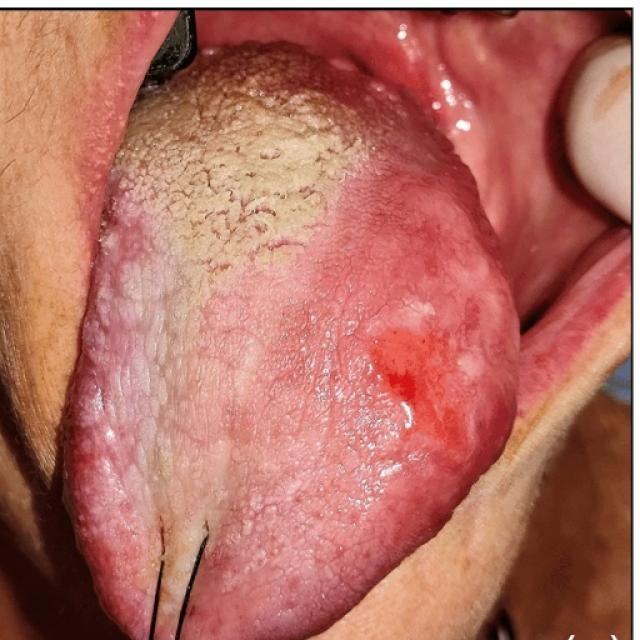cancer-detection: (98, 37, 380, 297), (334, 198, 528, 491)
processing_area: (60, 13, 620, 639)
